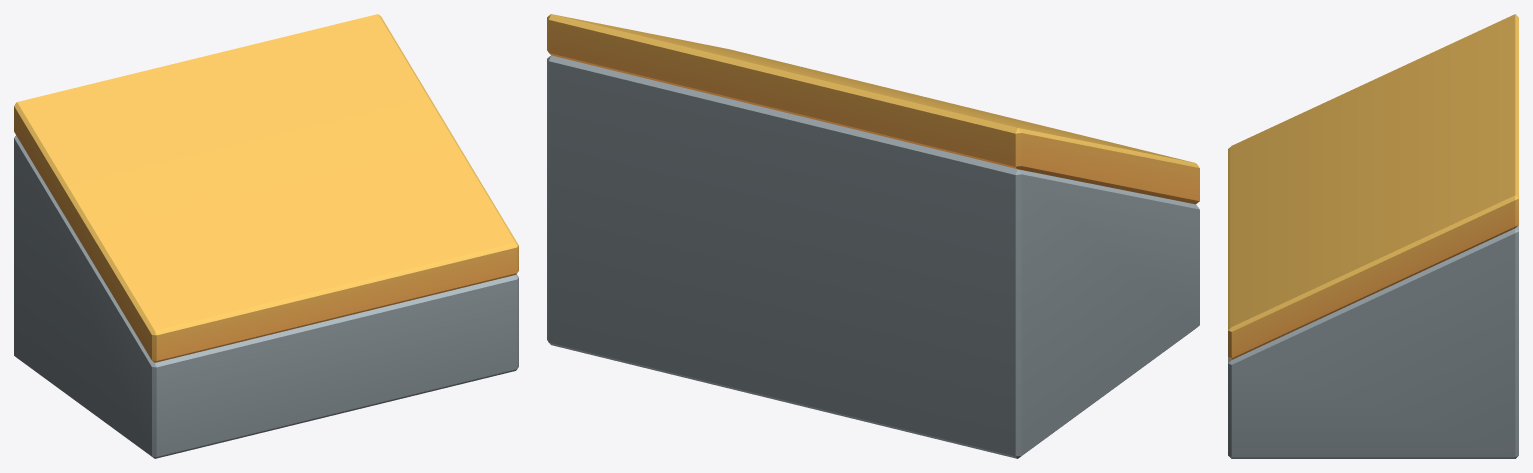
Rendered from kaykit_platform_slope_6x4x4_yellow.glb.
3 renders of one model, left to right at view 1: azimuth 30°, elevation 25°; view 2: azimuth 150°, elevation 25°; view 3: azimuth 270°, elevation 25°, orthographic. The views are drawn at different scales.
Parts seen in each view (by area): view 1: platform_slope_6x4x4_yellow_visual; view 2: platform_slope_6x4x4_yellow_visual; view 3: platform_slope_6x4x4_yellow_visual.
Boxes of the visible parts, x1,y1,x2,y2 form: platform_slope_6x4x4_yellow_visual: (14, 14, 518, 458); platform_slope_6x4x4_yellow_visual: (547, 14, 1199, 458); platform_slope_6x4x4_yellow_visual: (1228, 14, 1518, 458).
Size of what is drawn, in the model's own units: 6 by 4 by 4.
Materials: 1 (1 with a texture image).
